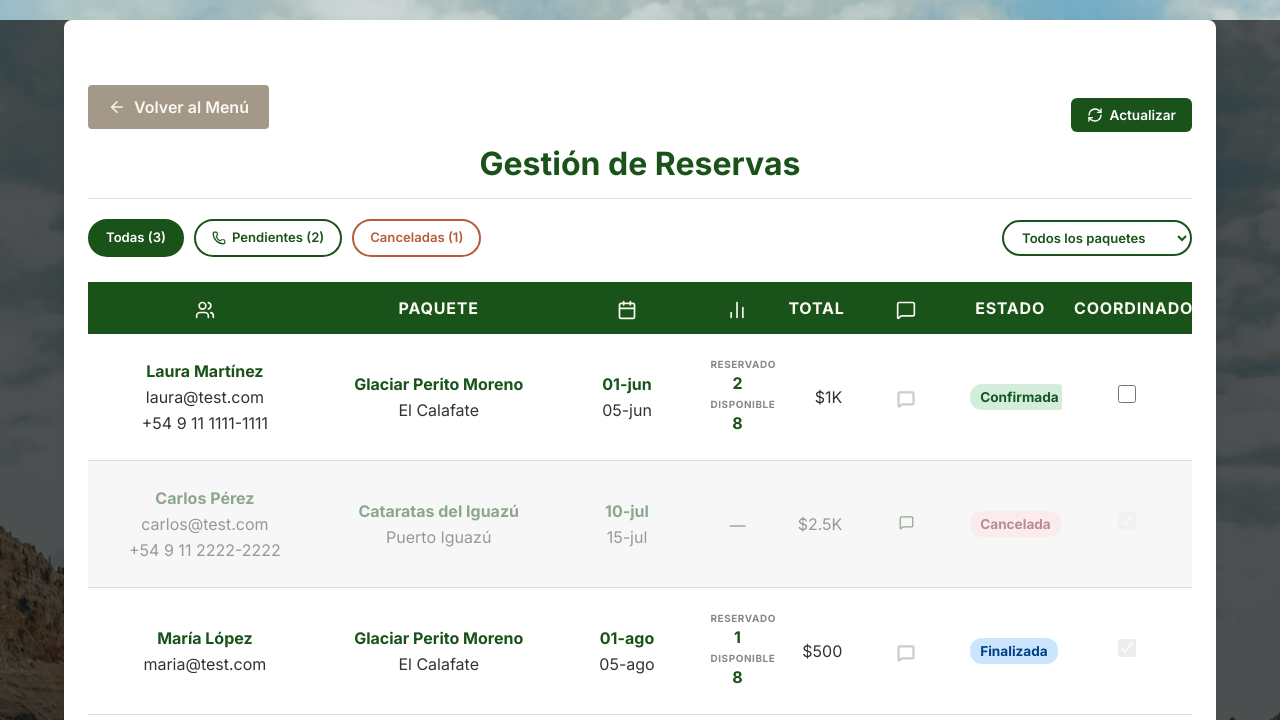
Test case: AdminBookingList › should filter and show only pending contact bookings
Expected: the text "Laura Martínez" is shown, top-left (146, 361), bottom-right (264, 381)
Click the button "Pendientes (2)" at coordinates (268, 238), box top-left (194, 219), bottom-right (342, 257)
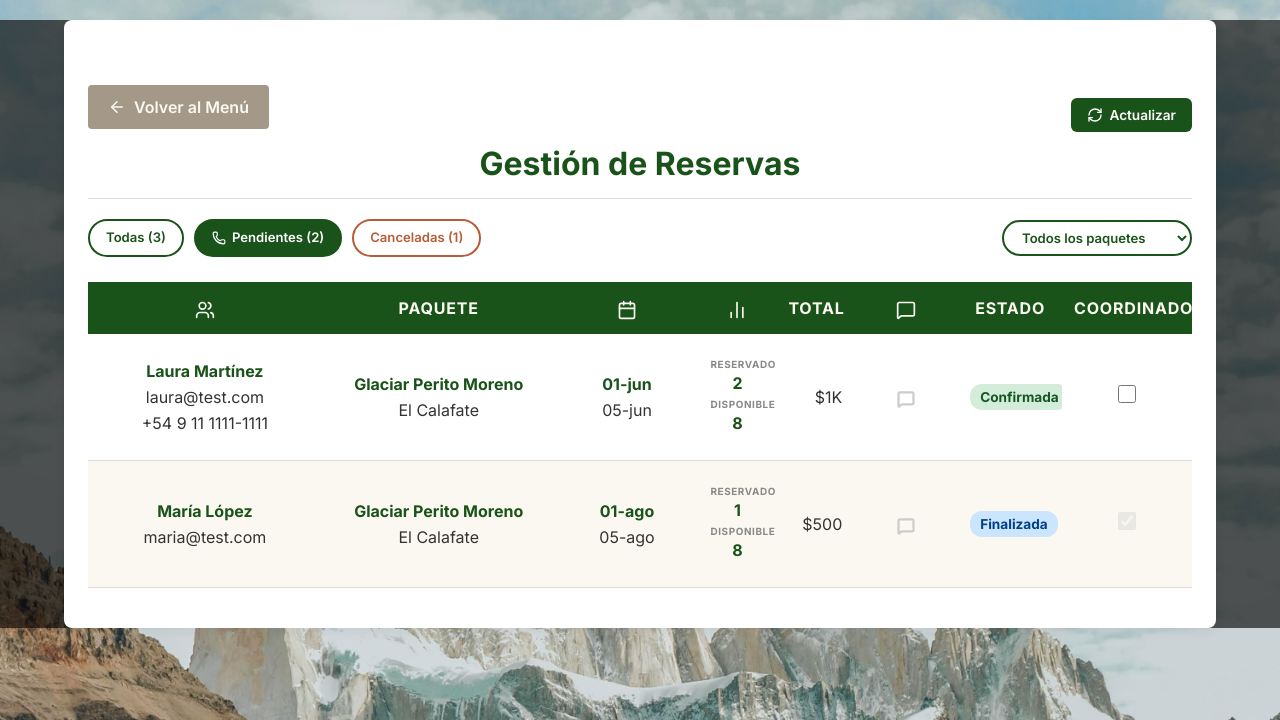
Expected: the text "Laura Martínez" is shown, top-left (146, 361), bottom-right (264, 381)
Expected: the text "Carlos Pérez" is gone
